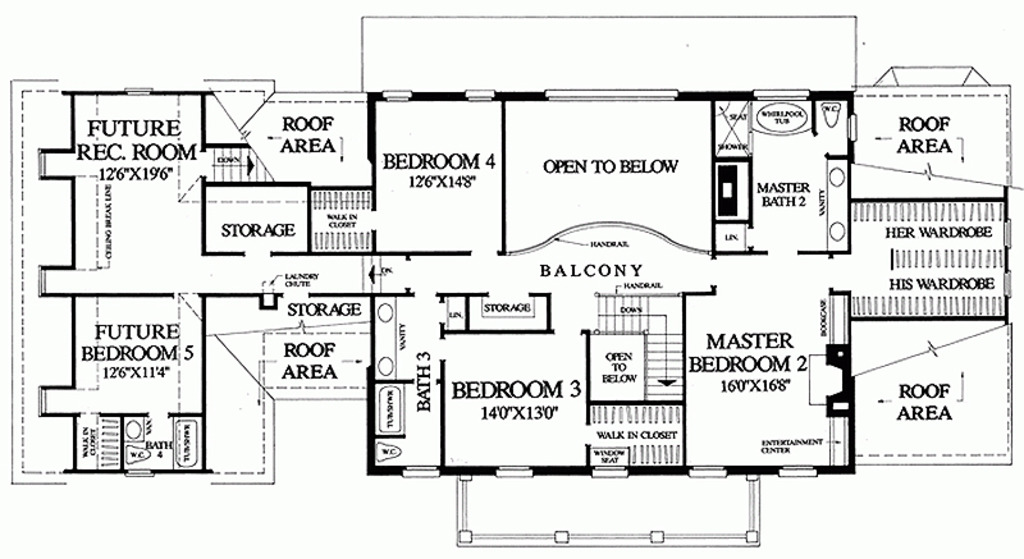large_sink: (373, 441, 413, 465), (816, 100, 848, 127), (123, 440, 153, 467)
small_sink: (823, 154, 852, 253), (373, 295, 398, 378), (123, 415, 147, 446)
stairs: (589, 293, 684, 401), (198, 144, 281, 184)
tub: (753, 99, 812, 140), (171, 415, 204, 470), (374, 381, 406, 435)
window: (538, 84, 683, 107), (687, 465, 730, 485), (120, 85, 167, 102), (774, 463, 817, 481), (492, 464, 537, 479), (461, 85, 498, 103), (592, 465, 630, 482), (378, 87, 414, 104), (403, 466, 439, 480)
